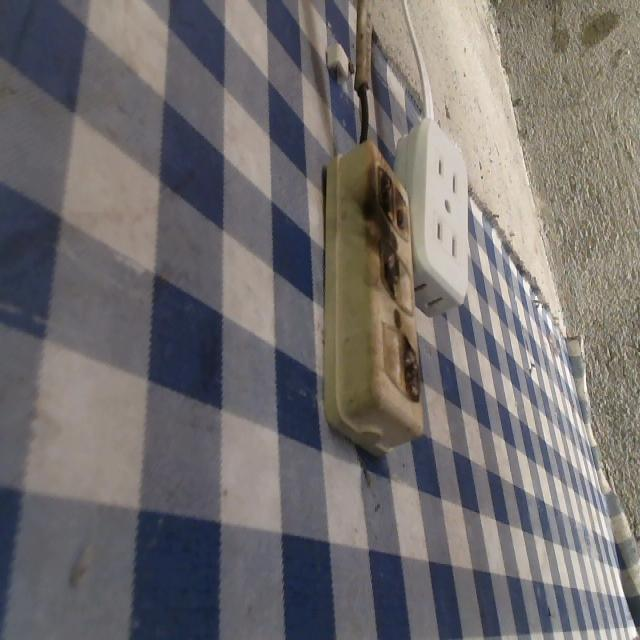-: (357, 156, 418, 235), (395, 324, 423, 405), (374, 239, 406, 309)
